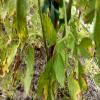Tomato Septoria leaf spot: (14, 2, 30, 52), (0, 44, 19, 77), (53, 52, 66, 88), (75, 59, 89, 91), (43, 14, 56, 48), (25, 45, 34, 93), (68, 69, 82, 99), (79, 36, 95, 62)
